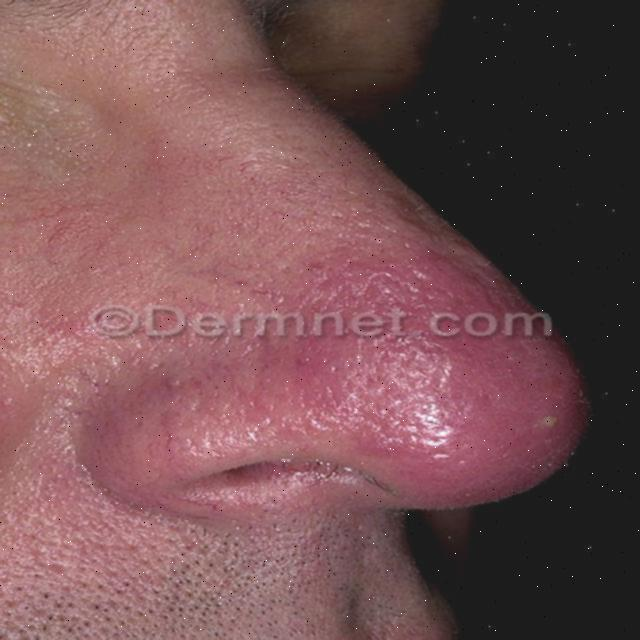images: (0, 0, 593, 639)
